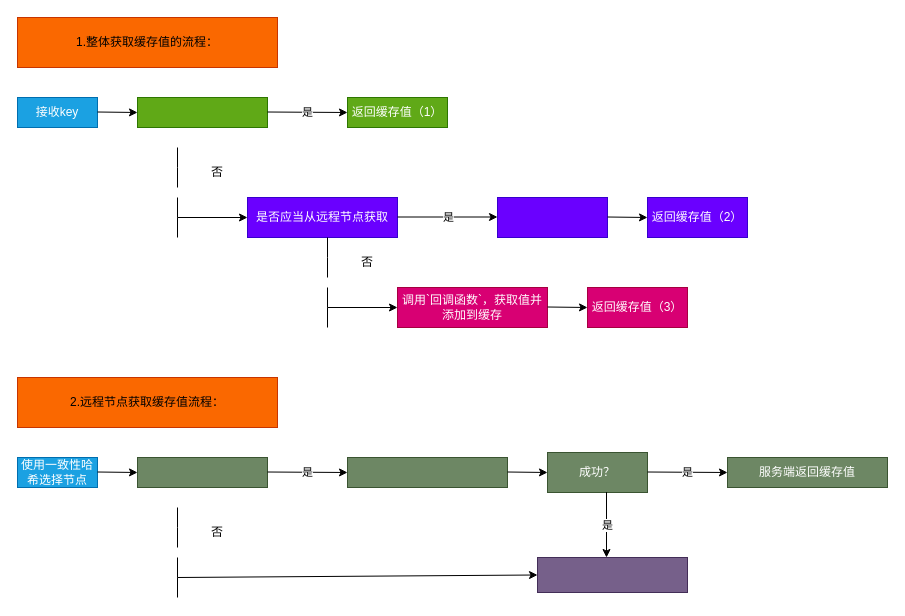
This 905x616 diagram has some shape labels left out. The centre of each missing label's shape, as x and y in pixels:
HTTP客户端访问远程节点: point 427,472
与远程节点交互: point 552,217
回退到本地节点处理: point 612,574
是否是远程节点: point 202,472
检查是否被缓存: point 202,112
